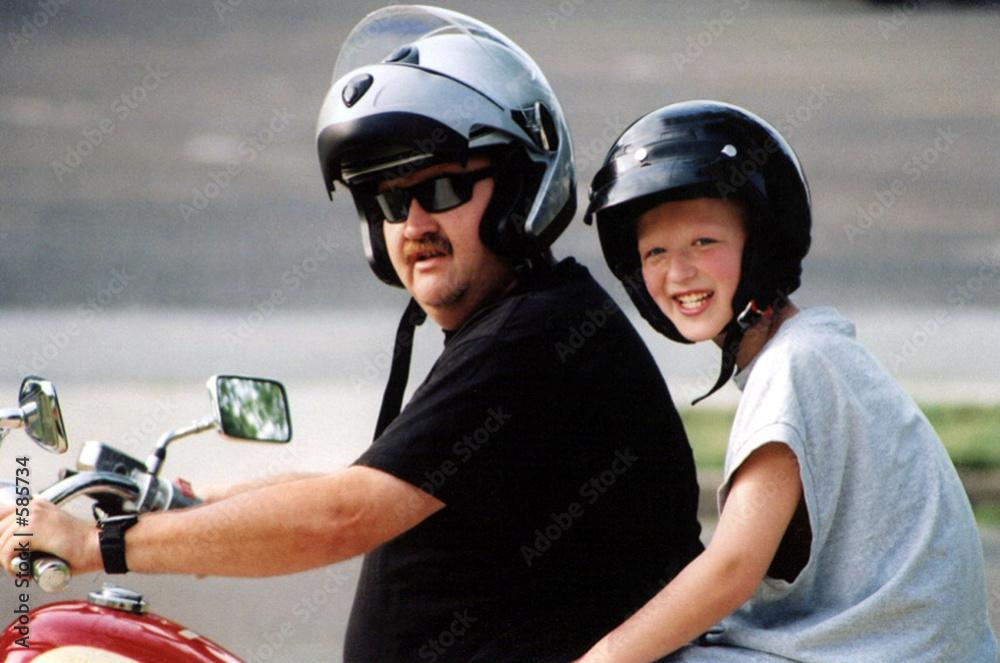helmet: (313, 3, 579, 321), (582, 97, 815, 346)
